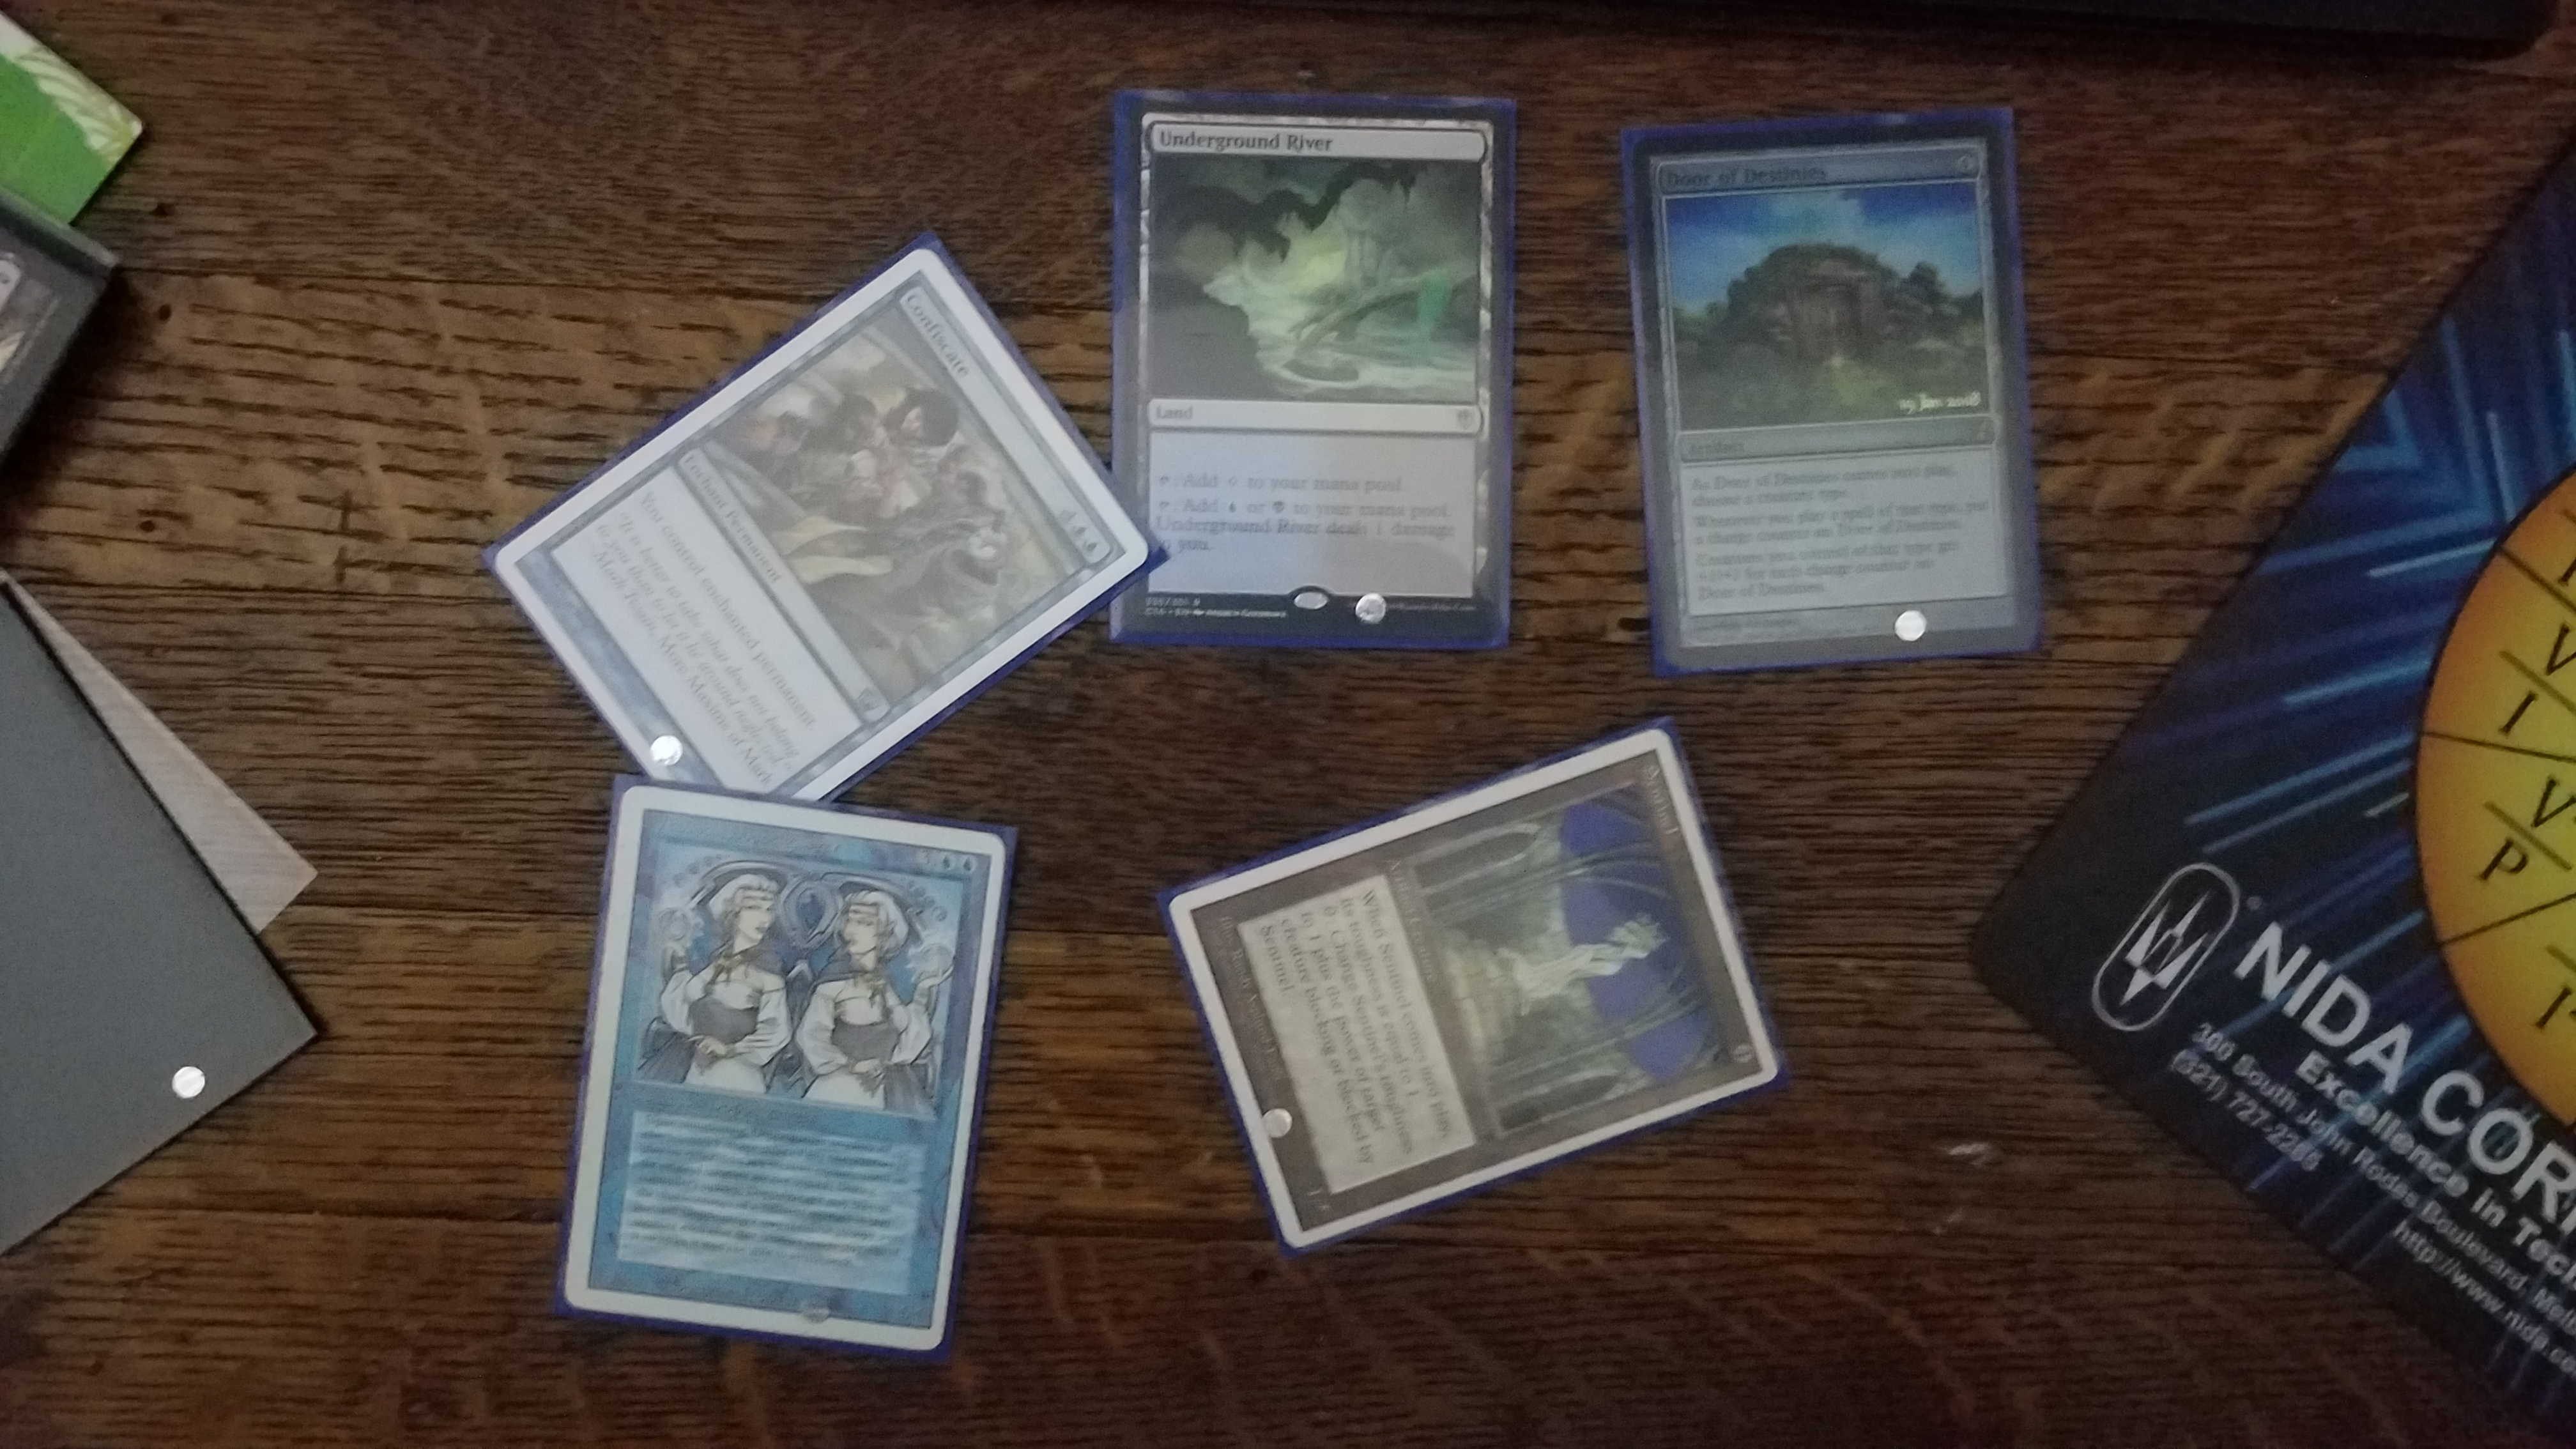Card: (490, 249, 1154, 810), (1164, 725, 1783, 1254), (564, 786, 1012, 1355), (1106, 78, 1516, 640), (1631, 124, 2045, 674)
